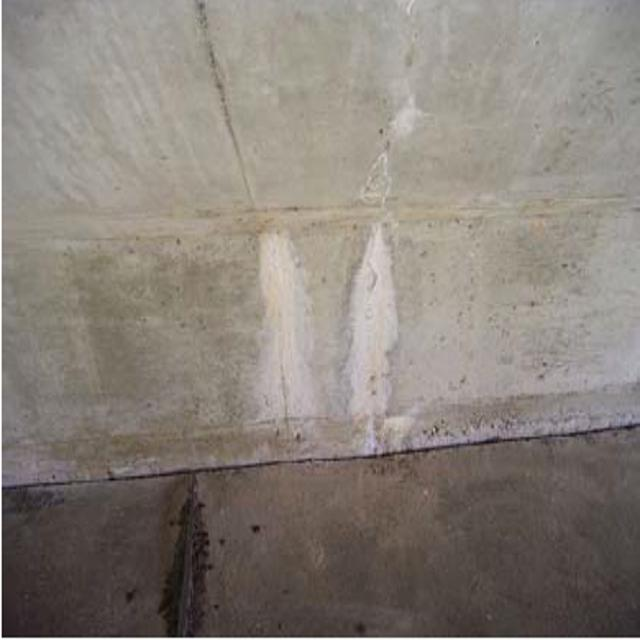freelime: (251, 230, 416, 457)
